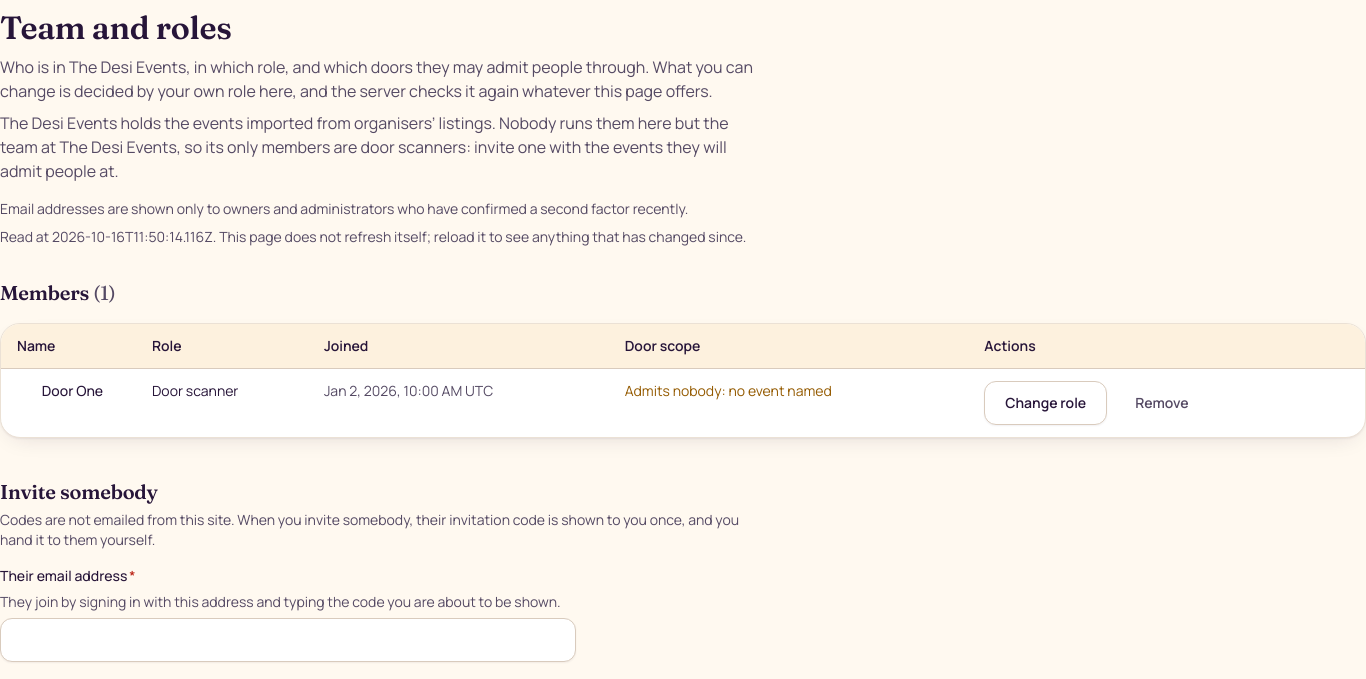
the platform-held organisation (ADR 0019) › offers a platform administrator The Desi Events, to invite door scanners for its events
Expected: the text "The Desi Events holds the events imported from organisers’ listings. Nobody runs them here but the team at The Desi Even" is shown, top-left (0, 112), bottom-right (729, 182)
A scanner there stays a scanner: changing its events is the one change.
Click the button with aria-label "Change Door One’s role".
click(1046, 403)  # box top-left (984, 381), bottom-right (1107, 425)
(page scrolled)
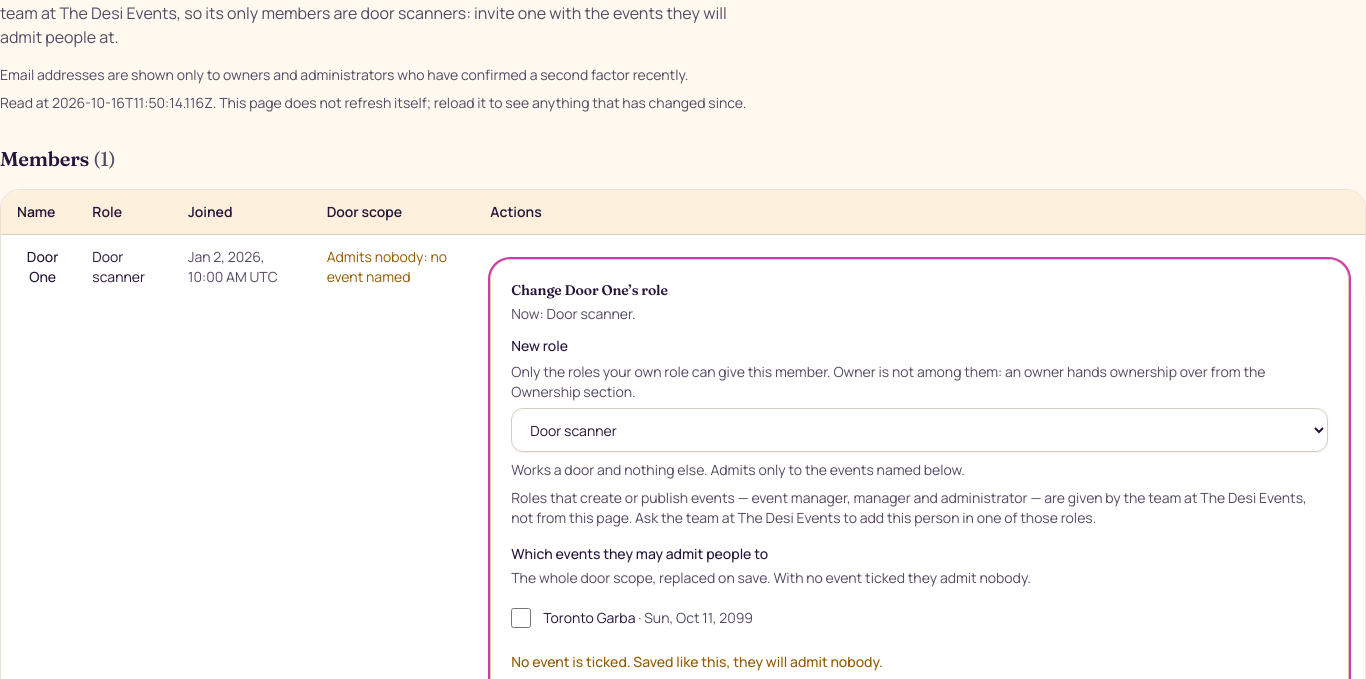
Expected: the number of checkboxes labelled "Toronto Garba · Sun, Oct 11, 2099" is 2
